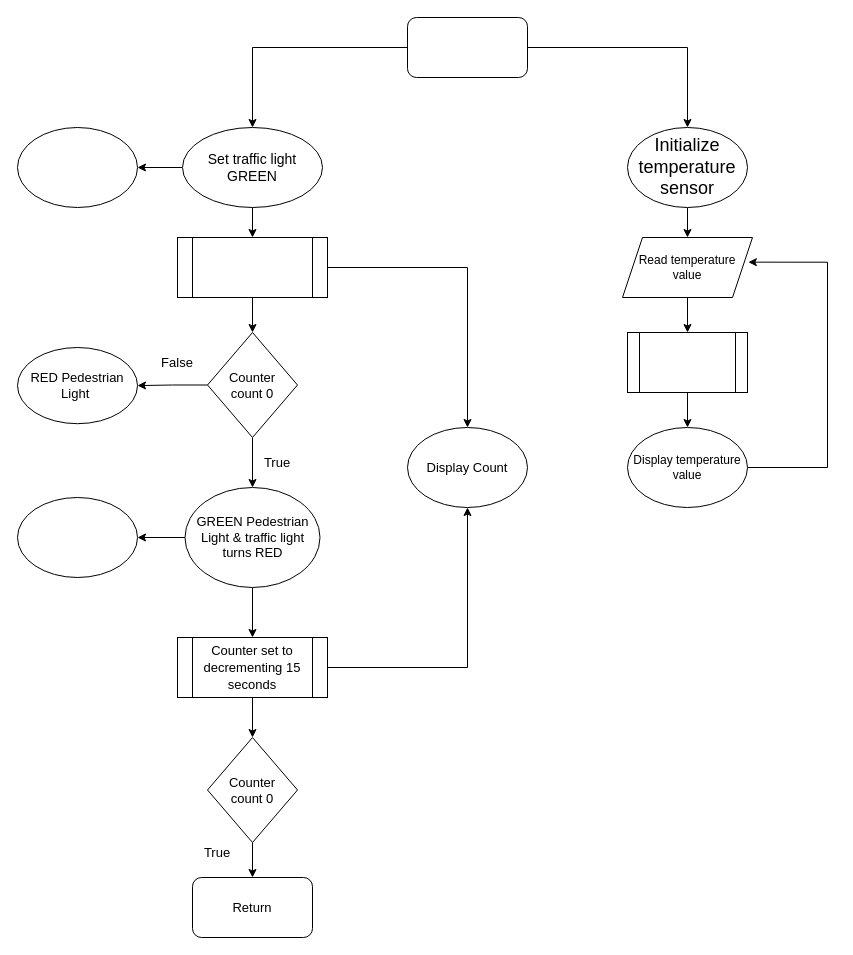
Image size: 853x955. Some labels were removed from this diagram. Each missing label, with the centre of its shape:
"Convert temperature to readable format" goes at (687,362).
"Counter set to decrementing 60 seconds" goes at (252,267).
"Pedestrian barrier UP" goes at (77,537).
"Set pedestrian barrier down" goes at (77,167).
"Start" goes at (467,47).
